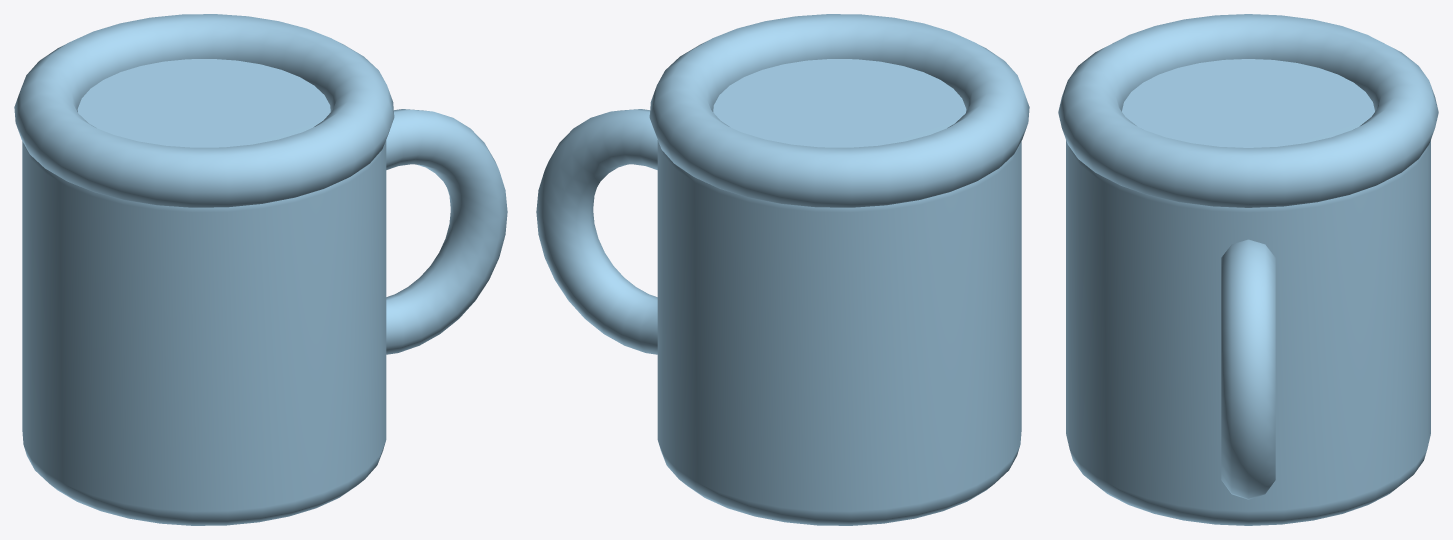
The model's file is japaneseCup.glb.
3 views of the same model, side by side, from view 1: azimuth 30°, elevation 25°; view 2: azimuth 150°, elevation 25°; view 3: azimuth 270°, elevation 25° (orthographic).
Parts seen in each view (by area): view 1: Cup, Cup rim, Handle; view 2: Cup, Cup rim, Handle; view 3: Cup, Cup rim, Handle.
Boxes of the visible parts, box(x1,y1,x2,y2) form: Cup: box(22, 59, 386, 525); Cup rim: box(14, 14, 394, 207); Handle: box(386, 109, 507, 354); Cup: box(657, 59, 1021, 525); Cup rim: box(649, 14, 1029, 207); Handle: box(536, 109, 657, 354); Cup: box(1066, 59, 1430, 525); Cup rim: box(1058, 14, 1438, 207); Handle: box(1221, 239, 1275, 499).
Bounding box in the file's own units: 0.676 × 0.518 × 0.48.
